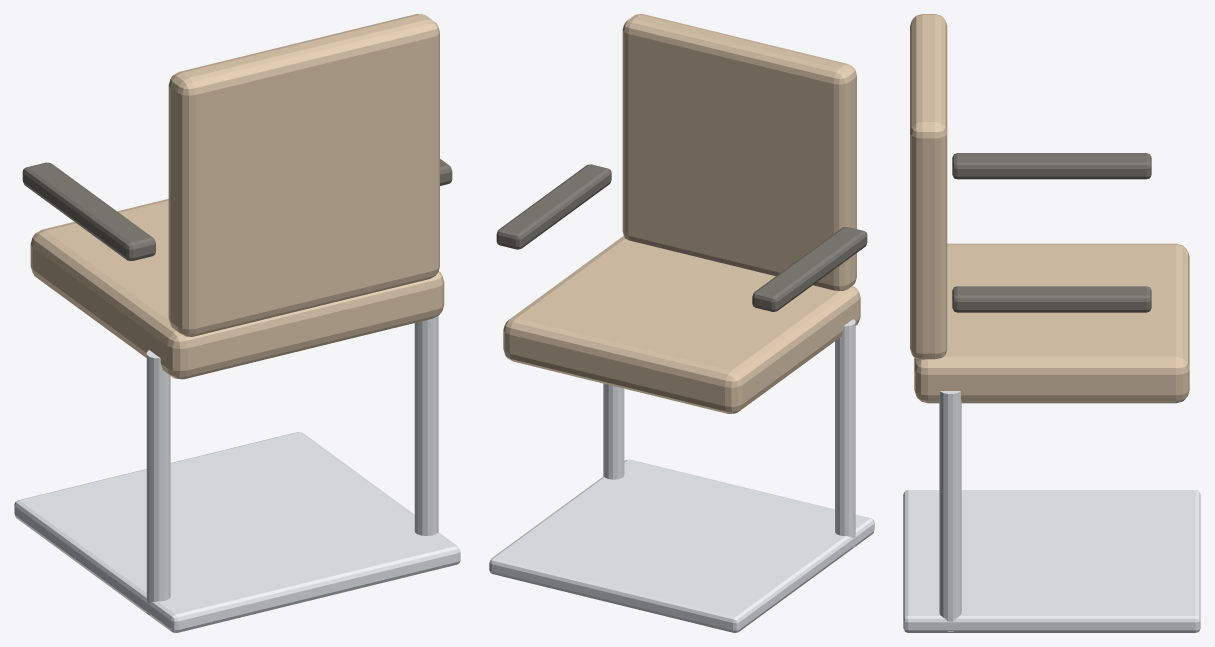
Rendered from modern_office_asset_library_board_05.glb.
3 views of the same model, side by side, from view 1: azimuth 30°, elevation 25°; view 2: azimuth 150°, elevation 25°; view 3: azimuth 270°, elevation 25° (orthographic). The views are drawn at different scales.
Visible parts, largest first — view 1: Cube; view 2: Cube; view 3: Cube.
Part boxes in pixels (x1,y1,x2,y2): Cube: [14, 14, 460, 632]; Cube: [489, 14, 874, 632]; Cube: [903, 14, 1200, 632].
Size of the model in its own units: 0.554 by 0.885 by 0.4756.
